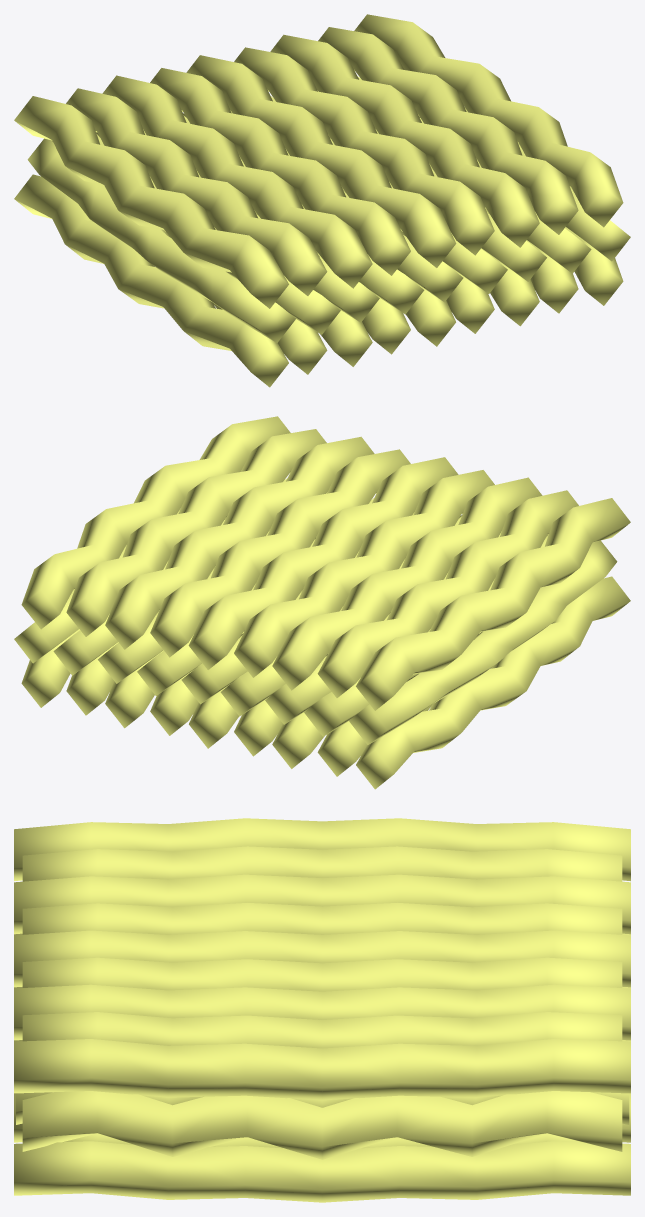
The model's file is Stock_Noodle_geo.fbx.
The picture shows the model from 3 angles, top to bottom: view 1: azimuth 30°, elevation 25°; view 2: azimuth 150°, elevation 25°; view 3: azimuth 270°, elevation 25°; orthographic projection. The views are drawn at different scales.
Visible parts, largest first — view 1: Stock_Noodle_geo; view 2: Stock_Noodle_geo; view 3: Stock_Noodle_geo.
Part boxes in pixels (left/top/right/bottom): Stock_Noodle_geo: left=14, top=14, right=630, bottom=387; Stock_Noodle_geo: left=14, top=416, right=630, bottom=789; Stock_Noodle_geo: left=14, top=818, right=630, bottom=1202.
Size of the model in its own units: 0.5034 by 0.5016 by 0.1499.
